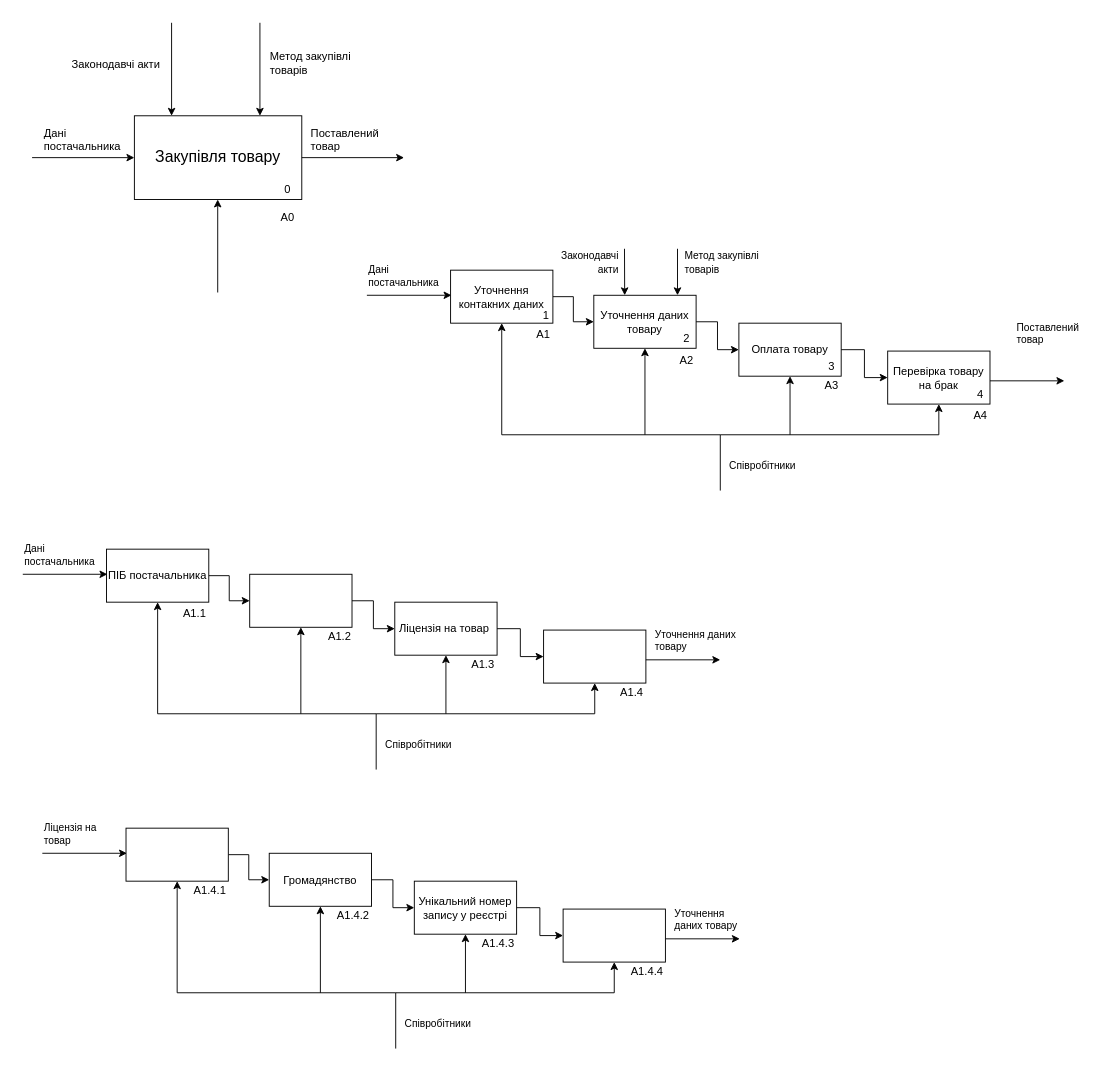
This 1117x1066 diagram has some shape labels left out. Each missing label, with the centre of its shape:
Контактний телефон: [300,600]
Ксерокопія паспорту: [176,854]
Паспортні дані: [594,656]
Ідентифікаційний номер платника податків: [613,935]
